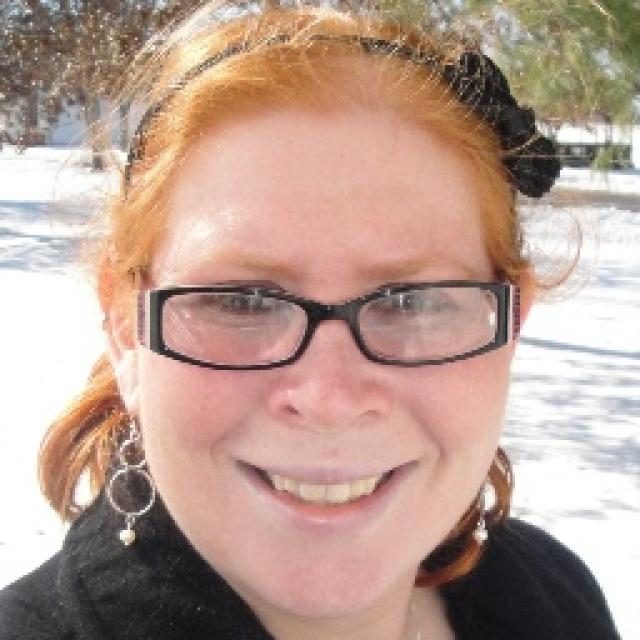earlobe: (114, 361, 139, 416)
eye: (202, 286, 283, 314), (375, 288, 451, 314)
nose: (274, 407, 384, 454)
wholeear: (96, 263, 140, 417)
